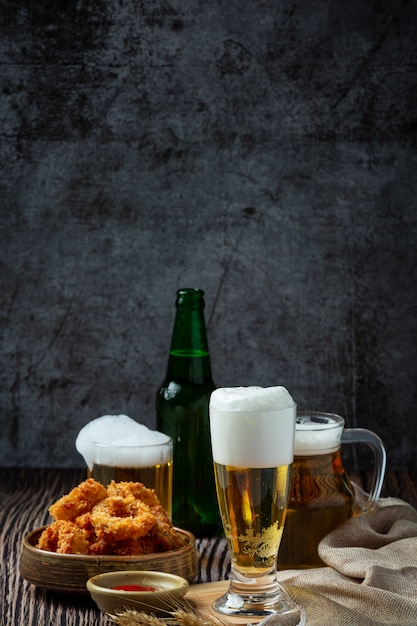alcohol: (206, 387, 296, 617), (158, 286, 224, 540), (292, 401, 392, 566), (75, 411, 177, 527)
